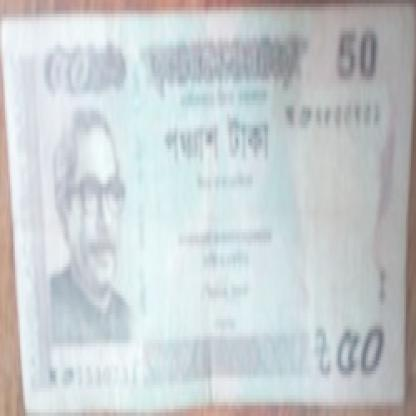Fifty taka: (316, 322, 401, 388), (35, 42, 110, 94)
